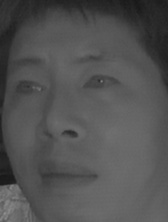eye: (81, 71, 122, 97), (9, 78, 46, 99)
mouth: (32, 154, 98, 197)
